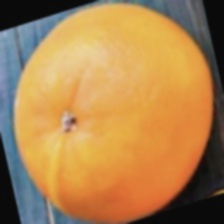orange: (43, 0, 203, 194)
